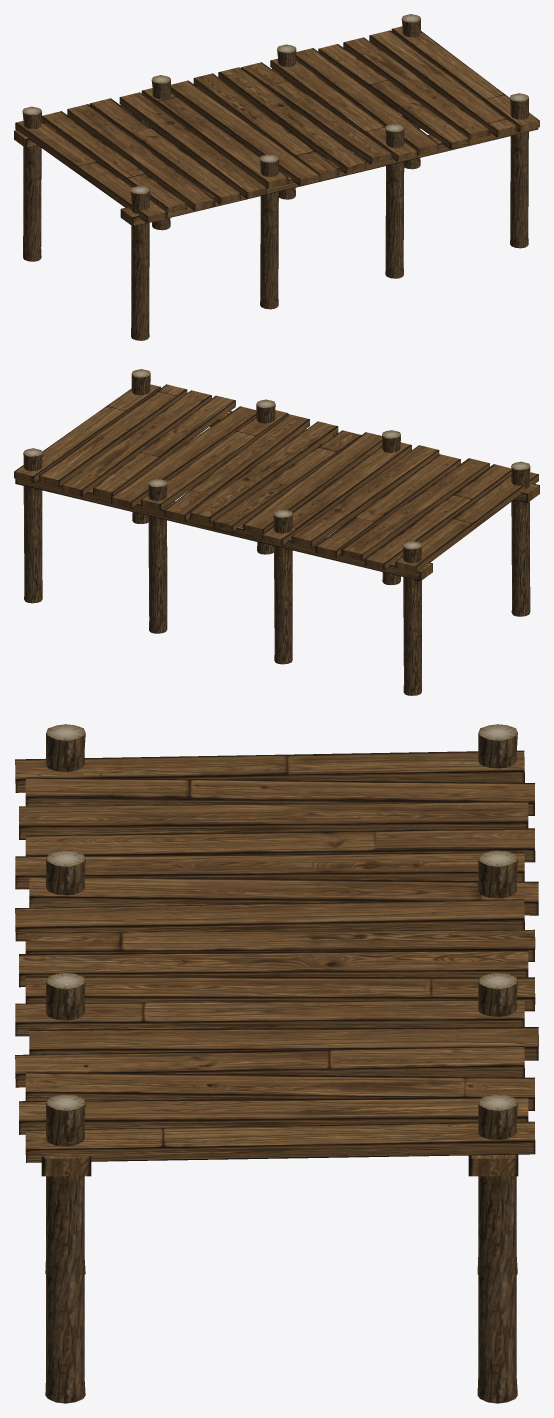
File: WoodPier1.obj
The picture shows the model from 3 angles, top to bottom: view 1: azimuth 30°, elevation 25°; view 2: azimuth 150°, elevation 25°; view 3: azimuth 270°, elevation 25°; orthographic projection. The views are drawn at different scales.
Visible parts, largest first — view 1: Mesh; view 2: Mesh; view 3: Mesh.
Boxes of the visible parts, left/top/right/bottom form: Mesh: left=14, top=14, right=539, bottom=340; Mesh: left=14, top=369, right=539, bottom=695; Mesh: left=15, top=724, right=538, bottom=1403.
Size of the model in its own units: 8.36 by 2.89 by 4.68.
